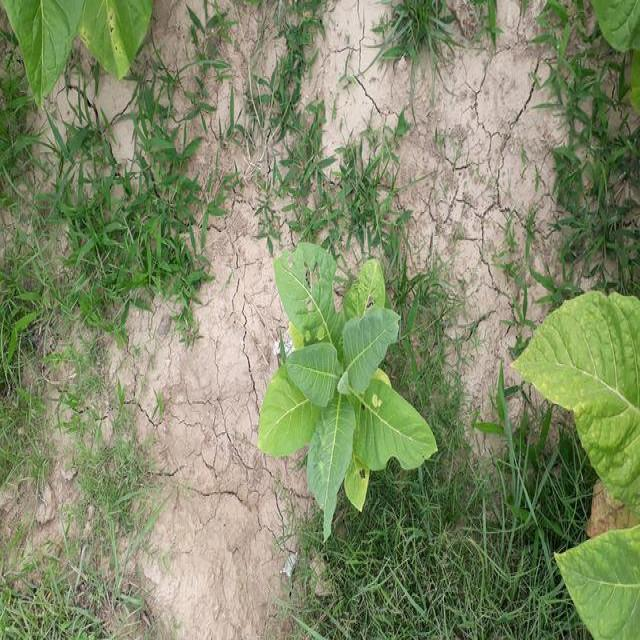crop: (254, 230, 444, 530), (518, 281, 639, 640), (5, 0, 154, 80)
